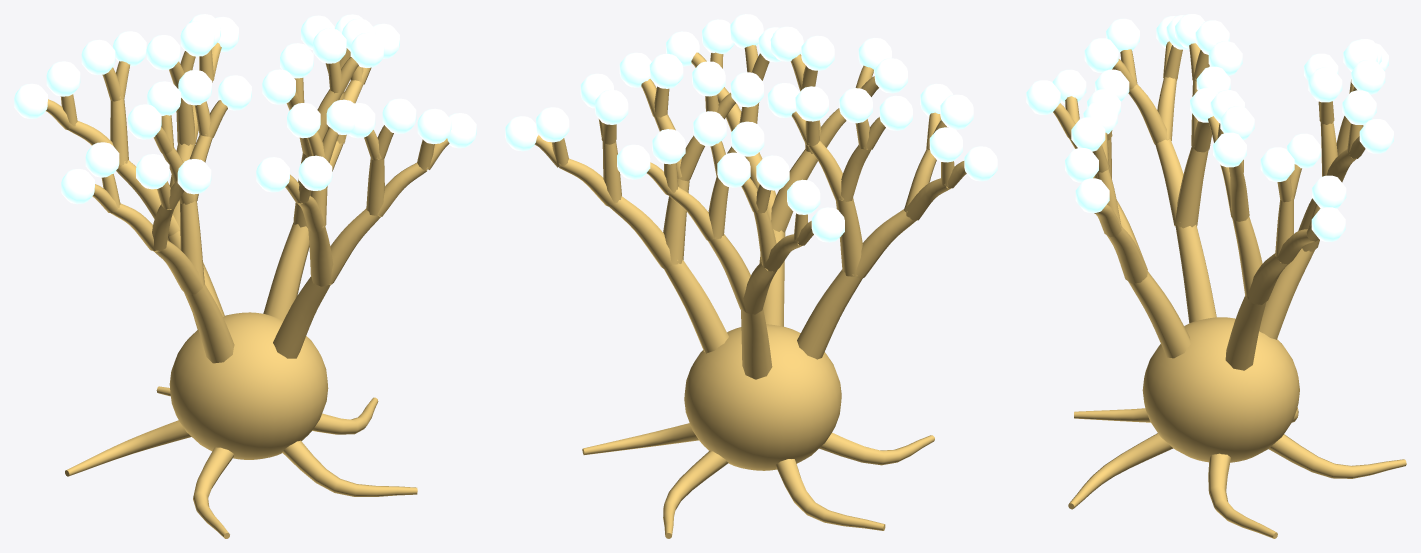
File: E07_Neuron_Tree.glb
3 renders of one model, left to right at view 1: azimuth 30°, elevation 25°; view 2: azimuth 150°, elevation 25°; view 3: azimuth 270°, elevation 25°, orthographic.
Parts seen in each view (by area): view 1: E07_Neuron_Tree_Mesh; view 2: E07_Neuron_Tree_Mesh; view 3: E07_Neuron_Tree_Mesh.
Part boxes in pixels (<box>): E07_Neuron_Tree_Mesh: <box>14,14,476,538</box>; E07_Neuron_Tree_Mesh: <box>505,14,997,538</box>; E07_Neuron_Tree_Mesh: <box>1026,14,1406,538</box>.
Bounding box in the file's own units: 3.59 × 3.37 × 2.9.
